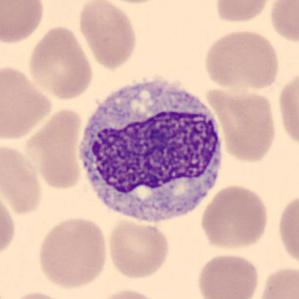Monocyte: (70, 68, 228, 229)
RBC: (206, 84, 280, 164), (34, 214, 110, 291), (21, 105, 87, 193), (26, 23, 96, 101), (202, 27, 282, 93), (198, 183, 271, 251), (76, 0, 140, 71), (0, 62, 55, 142), (106, 216, 172, 280), (0, 140, 46, 217), (194, 251, 262, 299), (0, 0, 46, 46), (274, 188, 299, 271), (276, 65, 298, 151), (212, 0, 275, 25), (255, 263, 298, 299), (266, 0, 298, 45), (0, 187, 18, 263), (92, 286, 163, 299), (6, 289, 74, 299), (99, 0, 168, 6)
